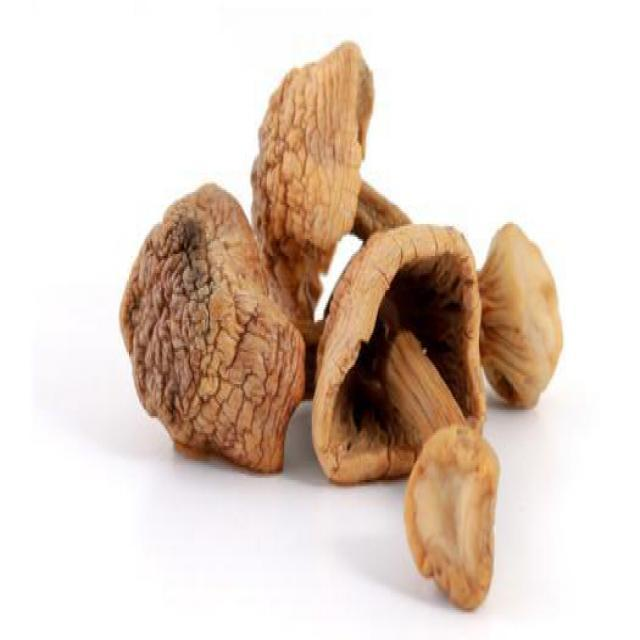Agaricus blazei Murill: (251, 47, 563, 407), (318, 224, 496, 612), (119, 184, 304, 472)
